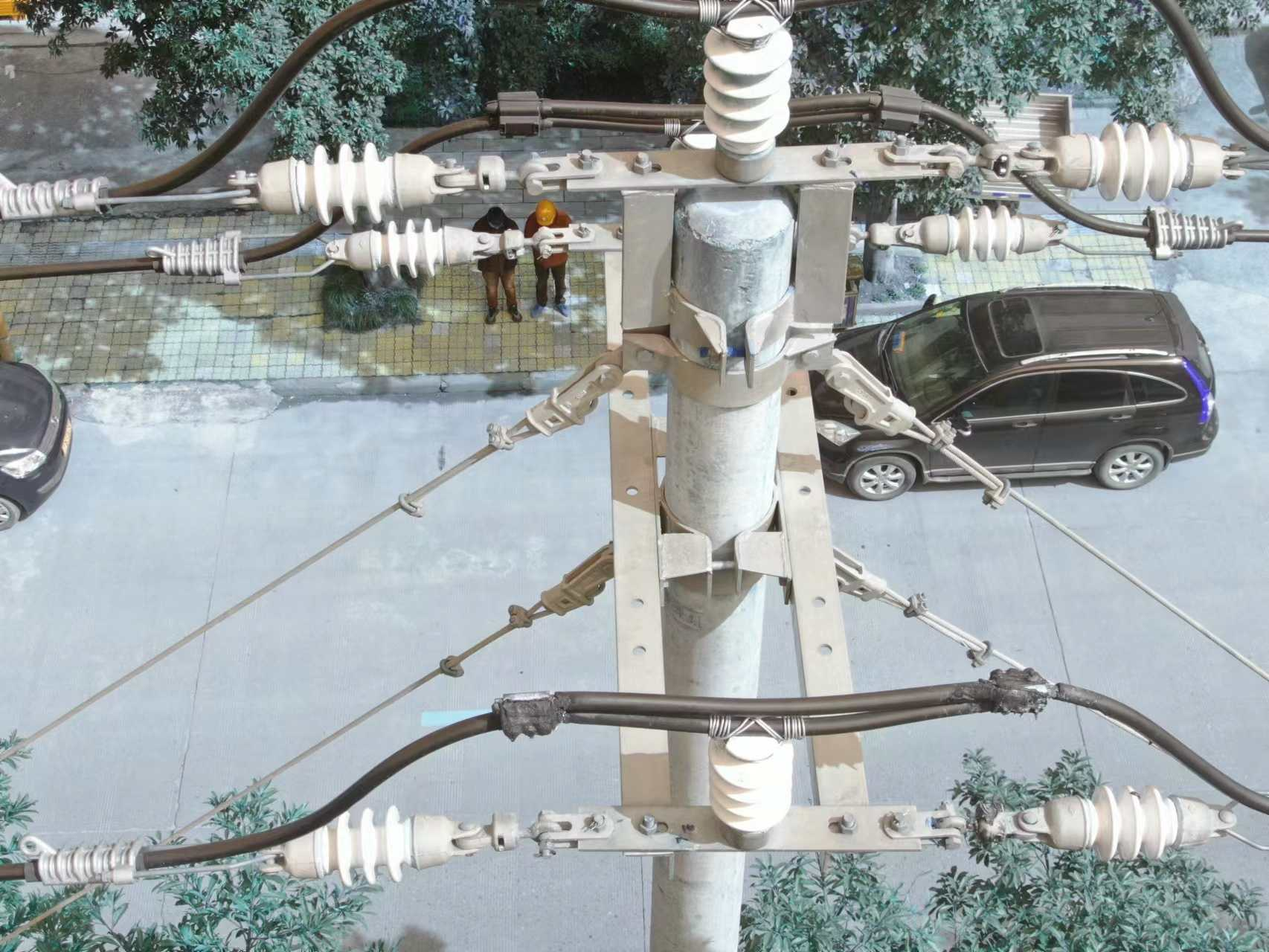severe_soiling_no_discharge_whole: (698, 14, 799, 185)
